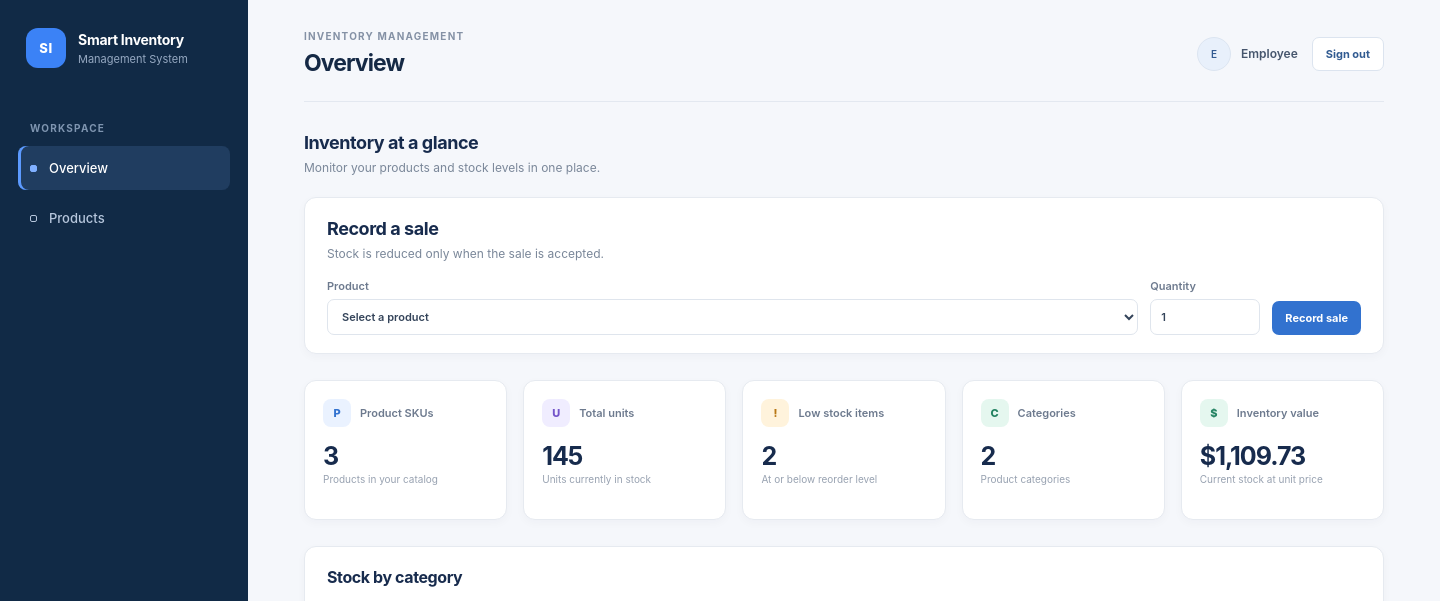
inventory dashboard › records a sale and reduces the displayed quantity
Select "Classic Notebook (120 available)" in the dropdown named "Sale product" at x=733, y=317, box [327, 299, 1138, 335]
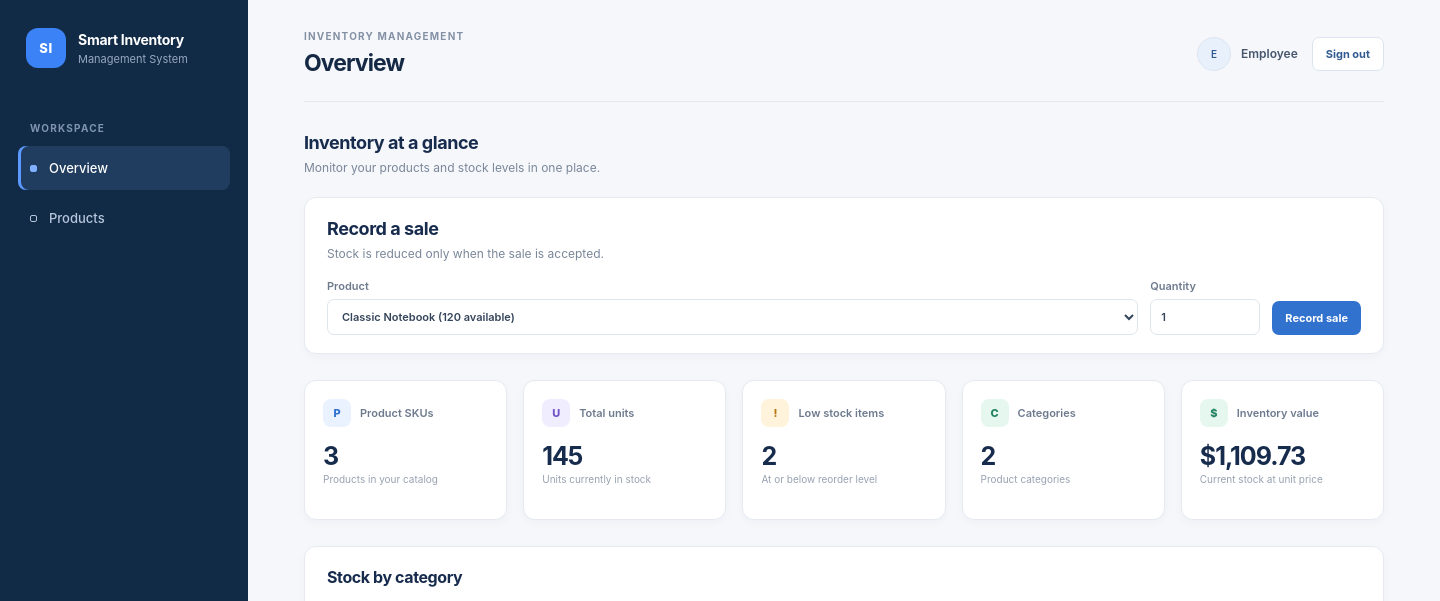
Replace the text in the number field named "Sale quantity" with "2" at x=1205, y=317, box [1150, 299, 1260, 335]
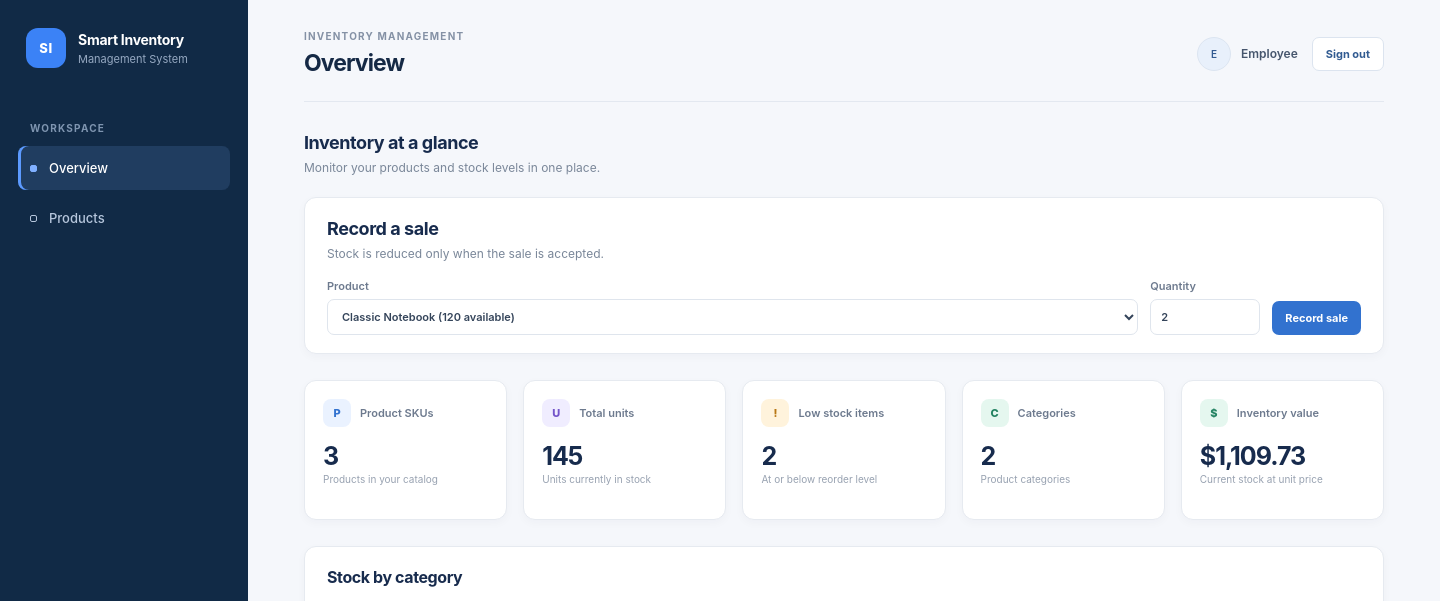
Click the button "Record sale".
click(1317, 318)  # box [1272, 301, 1361, 335]
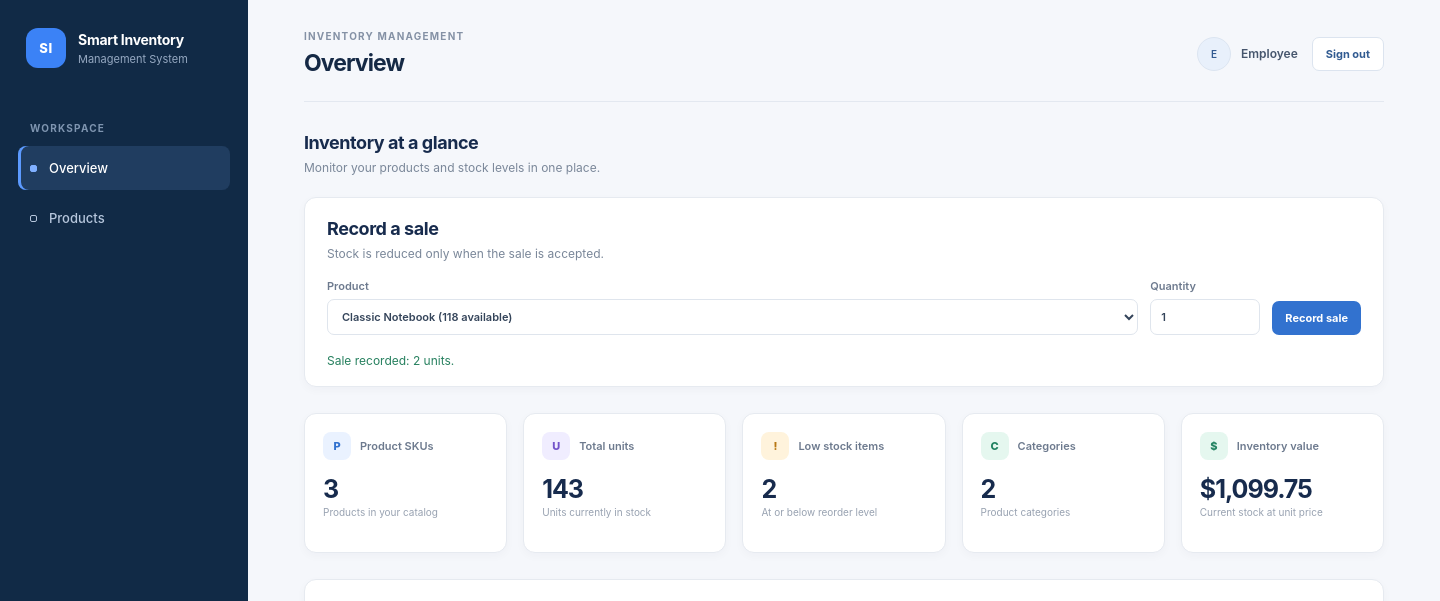
Now the message reads "Sale recorded: 2 units.", box [327, 353, 454, 368]
Now the text "$1,099.75" is shown, box [1200, 474, 1312, 504]
